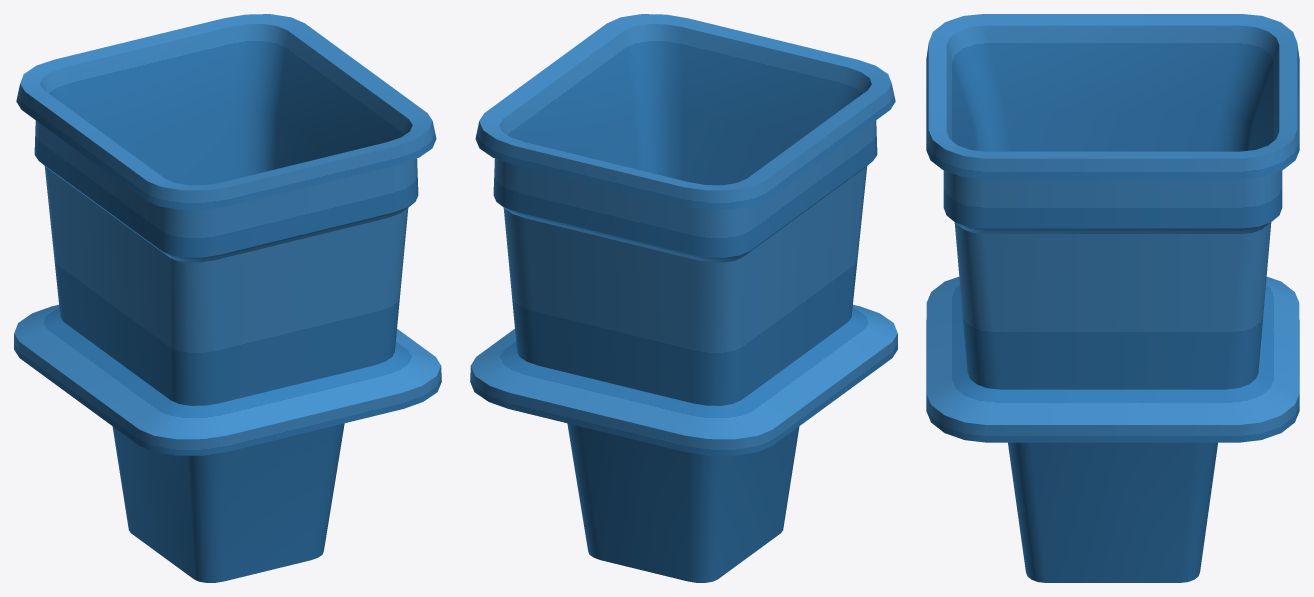
File: separadoresAzl.fbx
The picture shows the model from 3 angles, left to right: view 1: azimuth 30°, elevation 25°; view 2: azimuth 150°, elevation 25°; view 3: azimuth 270°, elevation 25°; orthographic projection. The views are drawn at different scales.
Parts seen in each view (by area): view 1: separadoresAzl; view 2: separadoresAzl; view 3: separadoresAzl.
Part boxes in pixels (x1=…): separadoresAzl: x1=14, y1=14, x2=441, y2=582; separadoresAzl: x1=470, y1=14, x2=897, y2=582; separadoresAzl: x1=926, y1=14, x2=1299, y2=582.
Size of the model in its own units: 265 by 375 by 273.
